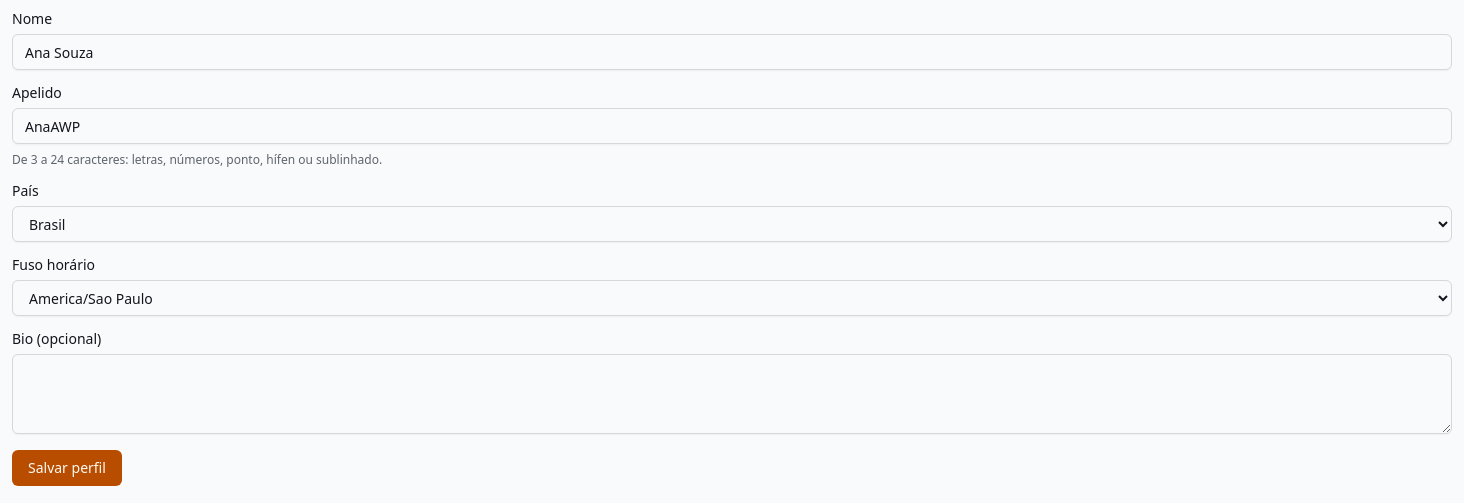
Test case: ProfileForm › shows field errors
What coordinates should you click on to do the following:
click the button "Salvar perfil"
I would click on:
 (67, 468)
Its box is [12,450,122,486].
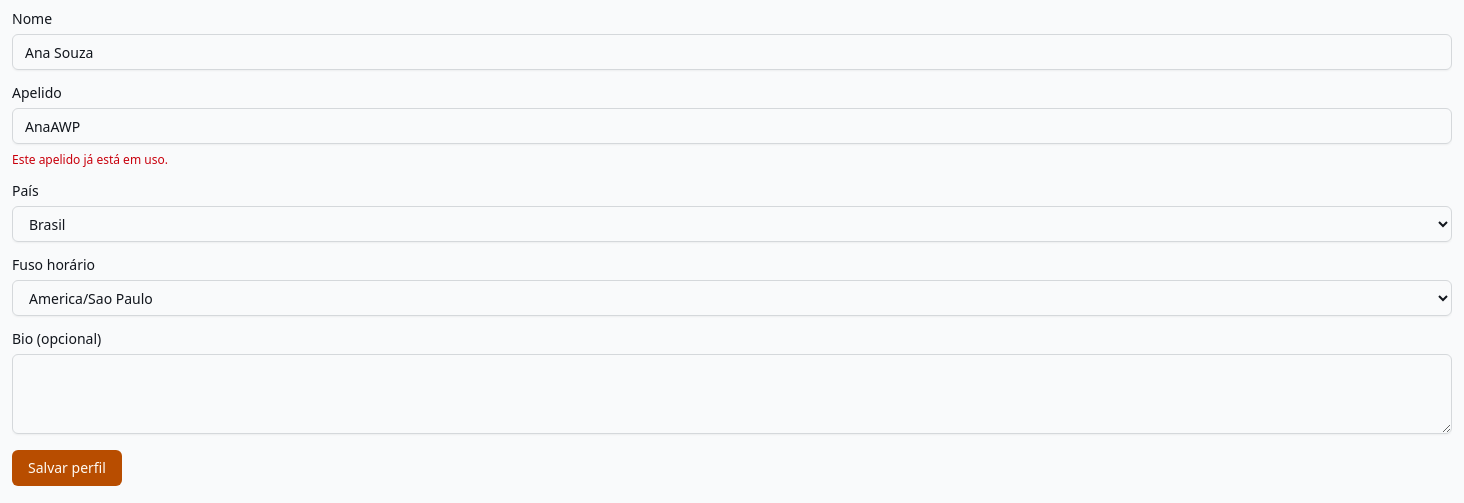
Check: the text "Este apelido já está em uso." is shown, box [12,151,168,168]
